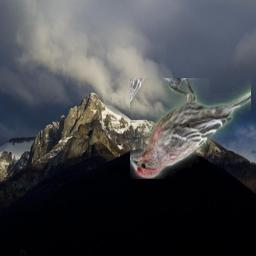Sparrow: (130, 78, 251, 179)
